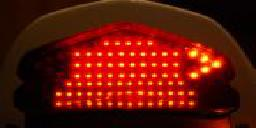LED: (53, 39, 223, 111)
